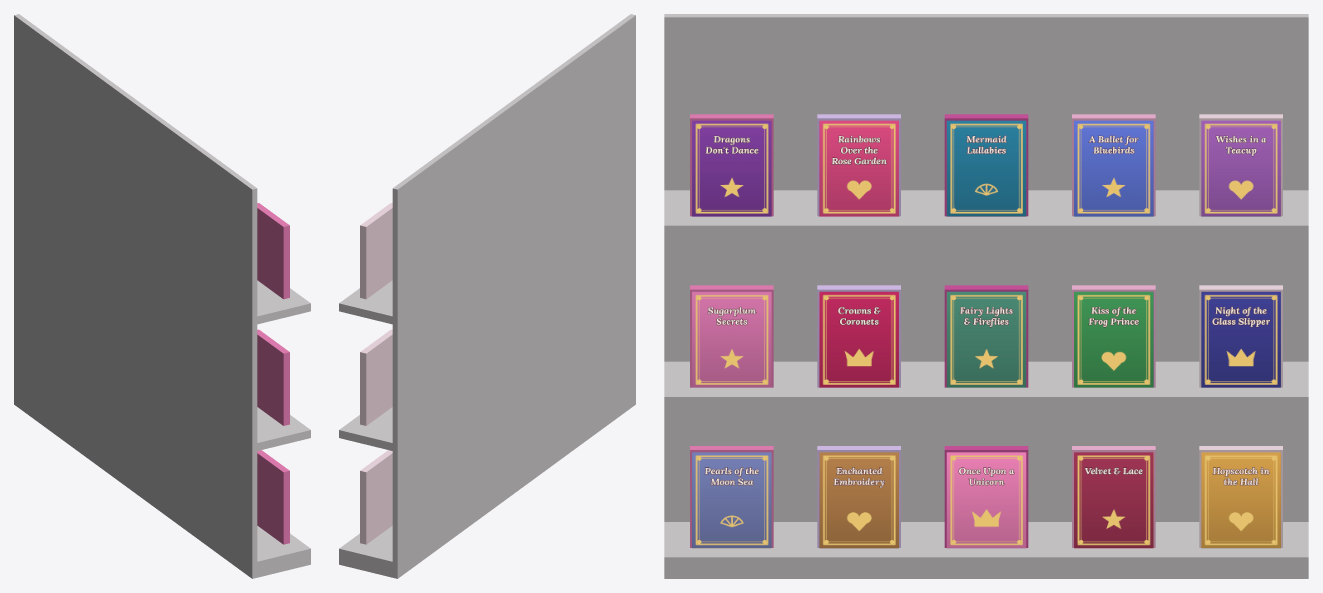
The model's file is citadel_secret_books.glb.
The picture shows the model from 3 angles, left to right: view 1: azimuth 30°, elevation 25°; view 2: azimuth 150°, elevation 25°; view 3: azimuth 270°, elevation 25°; orthographic projection. The views are drawn at different scales.
Visible parts, largest first — view 1: secret_books_white_wood, secret_books_satin_rose; view 2: secret_books_white_wood, secret_books_satin_blush; view 3: secret_books_white_wood, secret_books_book_cover_cards, secret_books_velvet, secret_books_satin_blush, secret_books_satin_lilac, secret_books_satin_pink, secret_books_satin_rose.
Boxes of the visible parts, bbox=[...] form: secret_books_white_wood: bbox=[14, 14, 310, 578]; secret_books_satin_rose: bbox=[257, 203, 289, 544]; secret_books_white_wood: bbox=[339, 14, 635, 578]; secret_books_satin_blush: bbox=[360, 203, 392, 544]; secret_books_white_wood: bbox=[664, 14, 1308, 578]; secret_books_book_cover_cards: bbox=[692, 120, 1280, 548]; secret_books_velvet: bbox=[944, 114, 1028, 547]; secret_books_satin_blush: bbox=[1199, 114, 1282, 547]; secret_books_satin_lilac: bbox=[817, 114, 900, 547]; secret_books_satin_pink: bbox=[1072, 114, 1155, 547]; secret_books_satin_rose: bbox=[690, 114, 773, 547].
Bounding box in the file's own units: 0.46 × 2.92 × 3.24.
7 materials, 1 textured.
